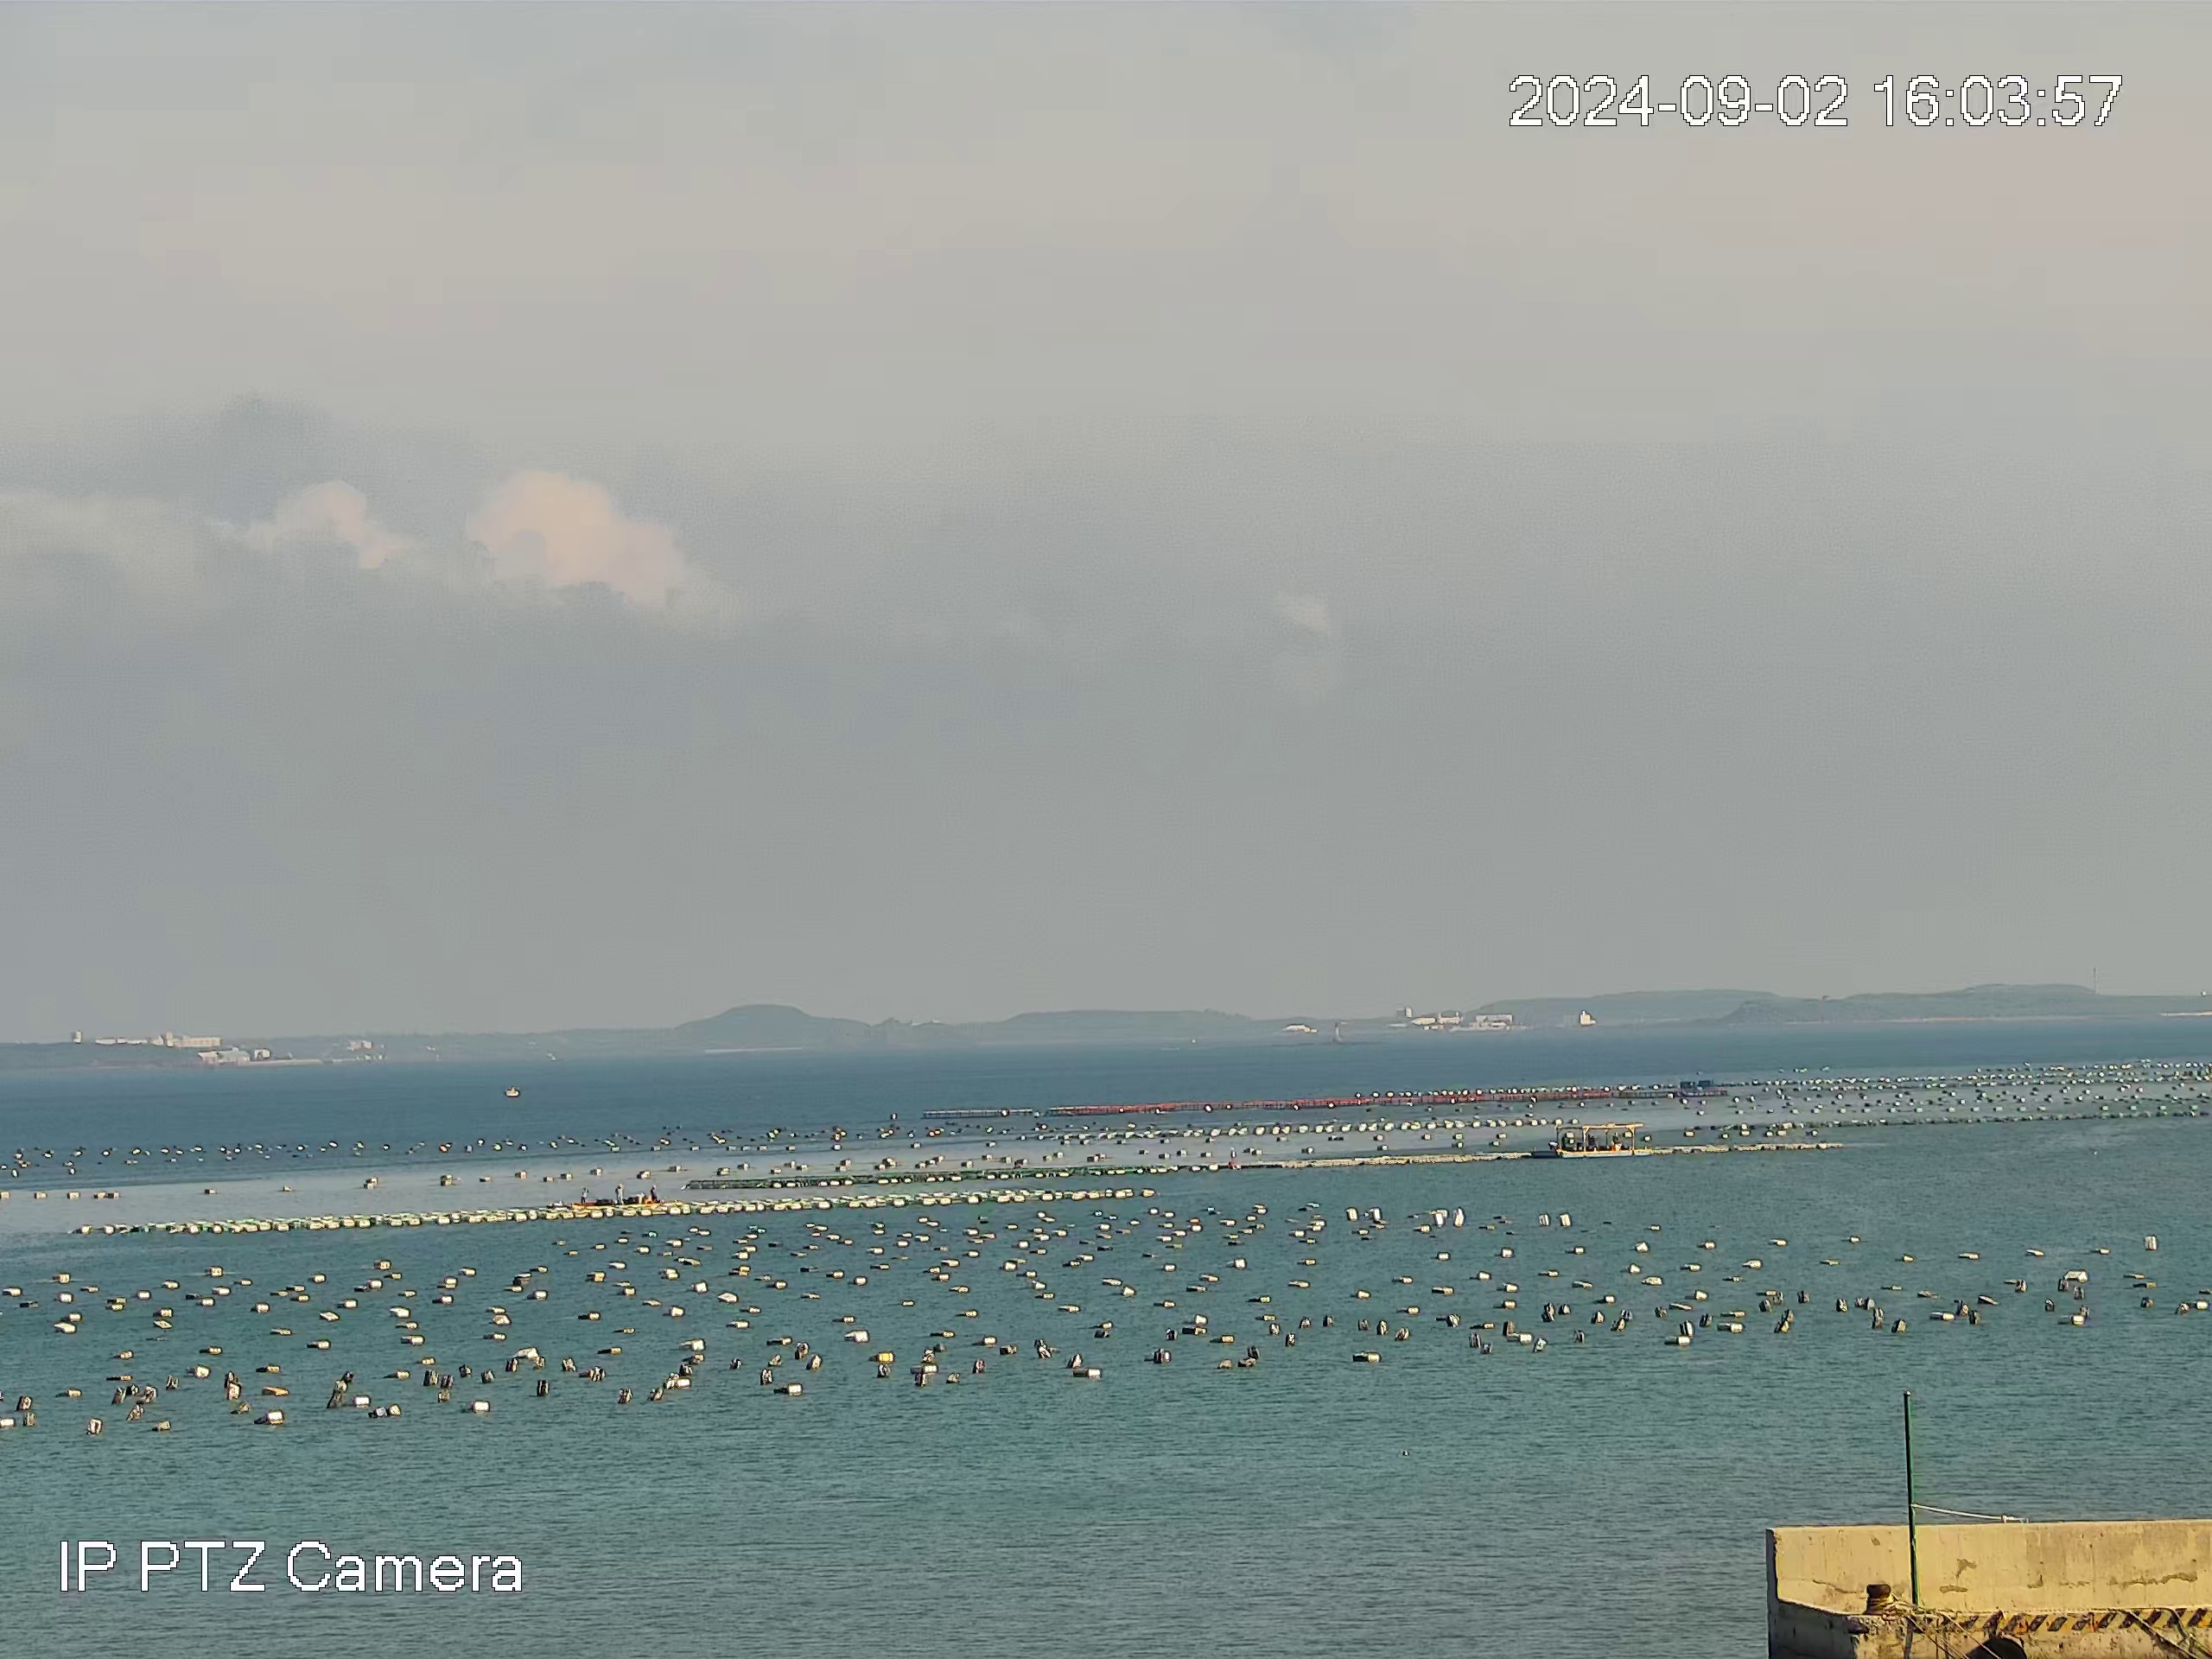boat: (1548, 1122, 1655, 1160), (569, 1184, 663, 1210), (504, 1085, 520, 1098)
